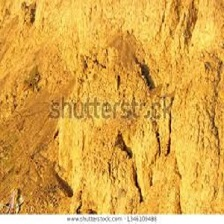sandy_soil: (12, 12, 209, 197)
